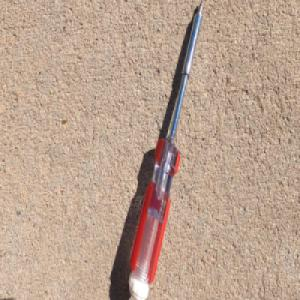Screwdriver: (127, 1, 202, 297)
